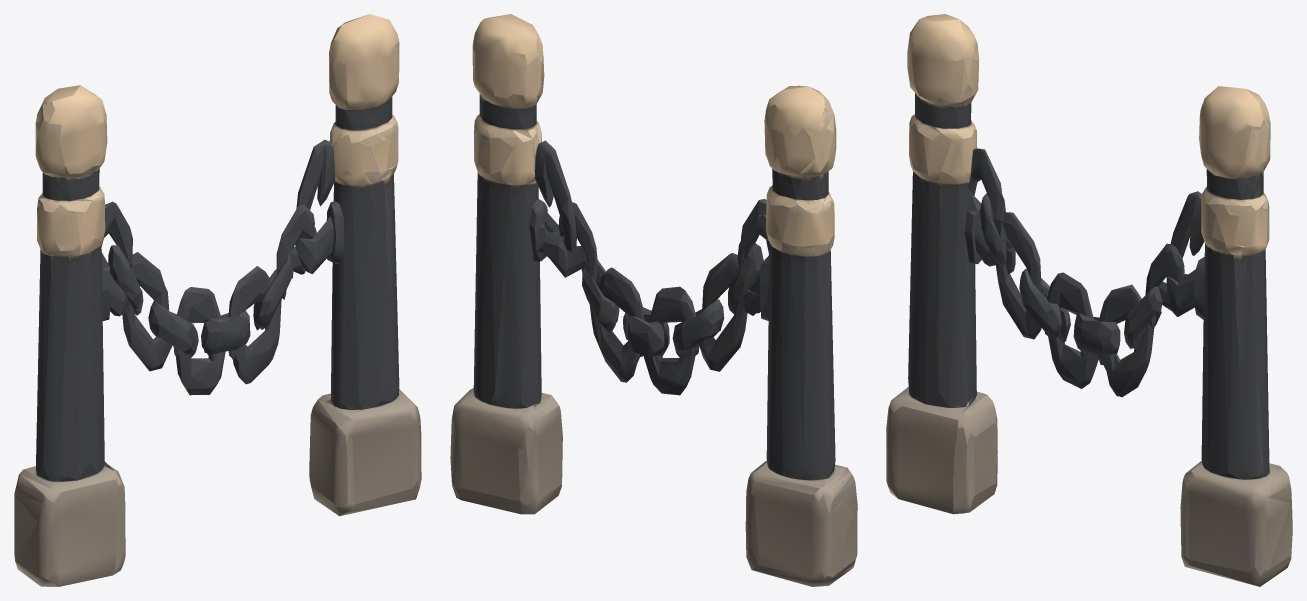
File: harborFence.glb
3 renders of one model, left to right at view 1: azimuth 30°, elevation 25°; view 2: azimuth 150°, elevation 25°; view 3: azimuth 330°, elevation 25°, orthographic.
Visible parts, largest first — view 1: Mesh_0; view 2: Mesh_0; view 3: Mesh_0.
Part boxes in pixels (left/top/right/bottom): Mesh_0: left=14, top=14, right=421, bottom=586; Mesh_0: left=450, top=14, right=857, bottom=586; Mesh_0: left=886, top=14, right=1292, bottom=586.
Size of the model in its own units: 1 by 1.2 by 0.16.
1 material, 1 textured.
